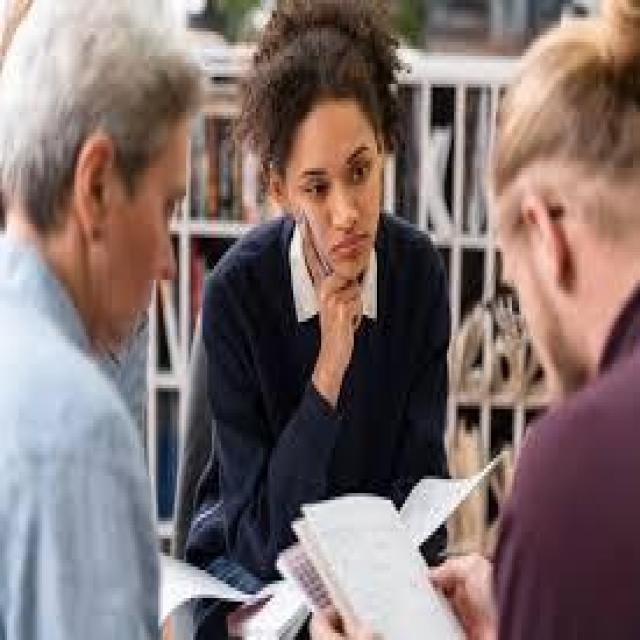person: (212, 3, 461, 524), (4, 0, 204, 626), (438, 32, 638, 570)
